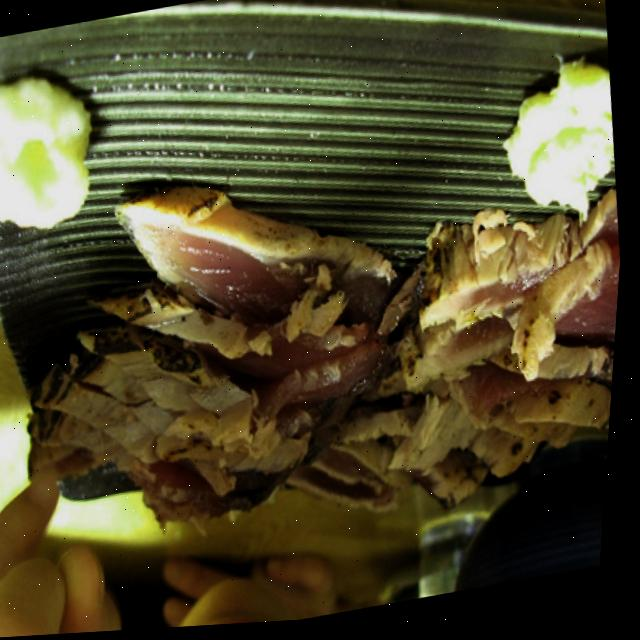熟制海鲜: (0, 101, 633, 588)
